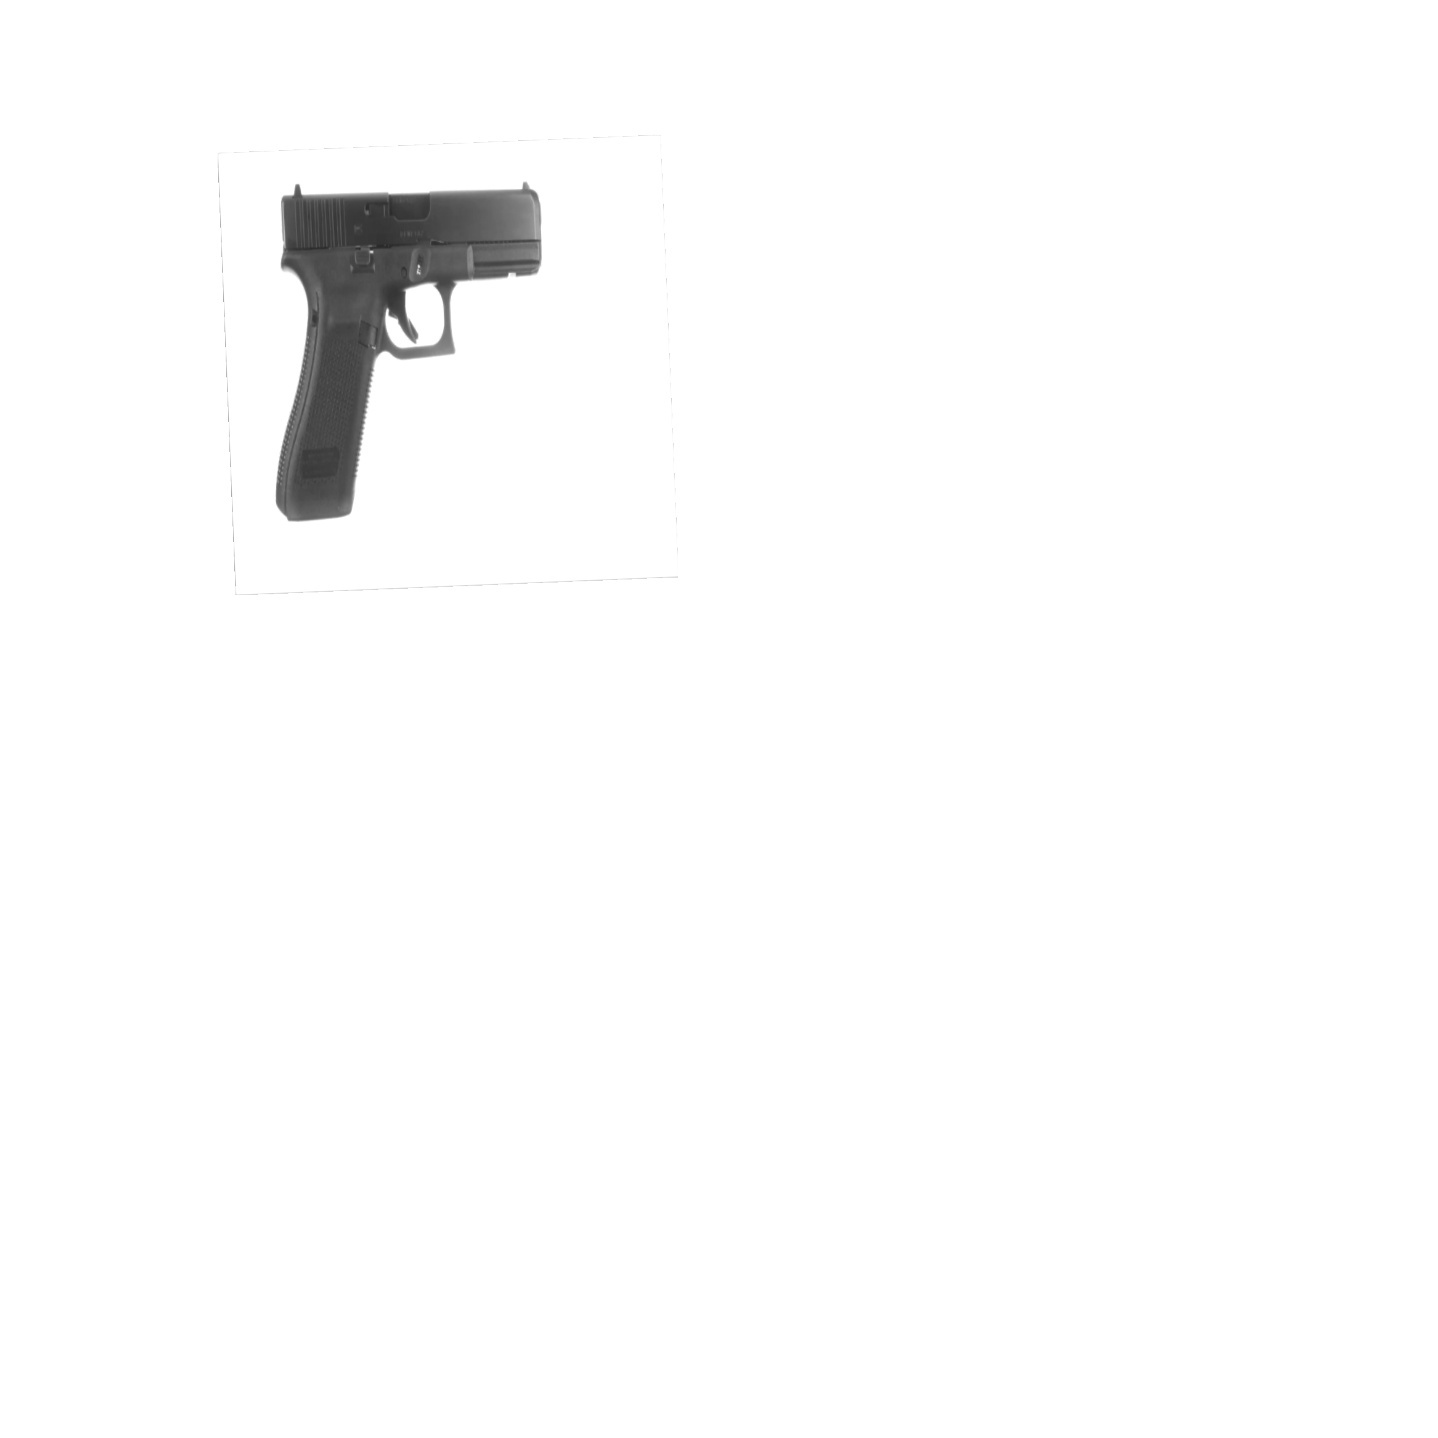gun: (274, 176, 543, 523)
